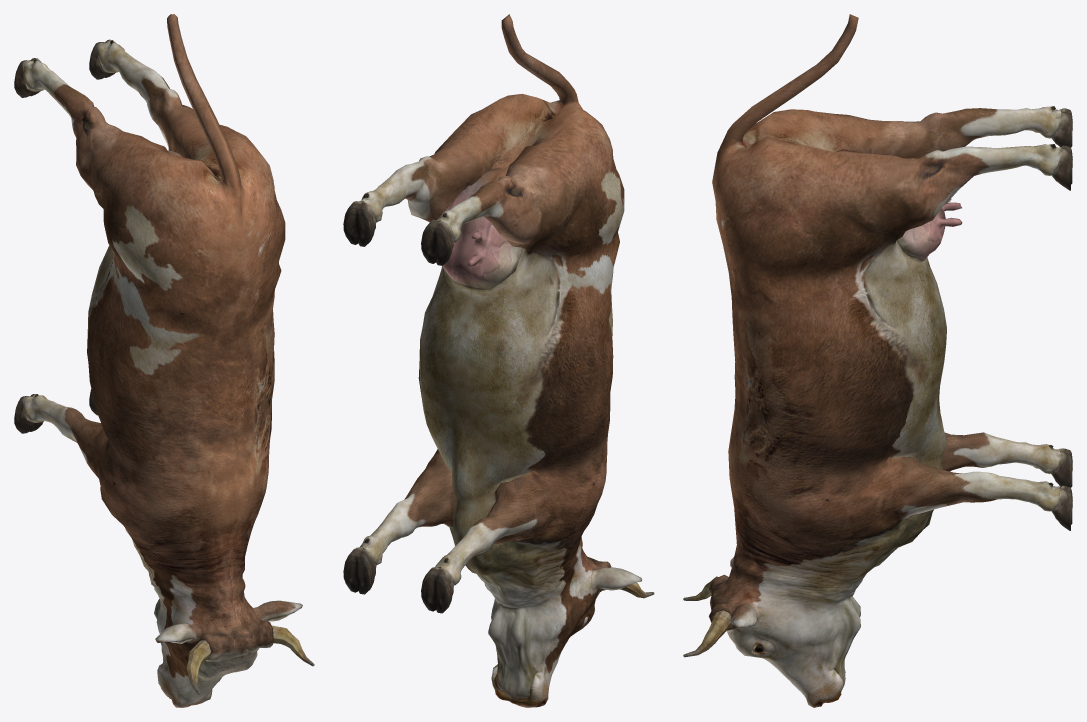
Rendered from cow.fbx.
3 views of the same model, side by side, from view 1: azimuth 30°, elevation 25°; view 2: azimuth 150°, elevation 25°; view 3: azimuth 270°, elevation 25° (orthographic). The views are drawn at different scales.
Parts seen in each view (by area): view 1: Line01; view 2: Line01; view 3: Line01.
Boxes of the visible parts, <box> form: Line01: <box>14,14,314,707</box>; Line01: <box>343,14,654,707</box>; Line01: <box>683,14,1072,707</box>.
Size of the model in its own units: 33.15 by 138 by 70.48.
